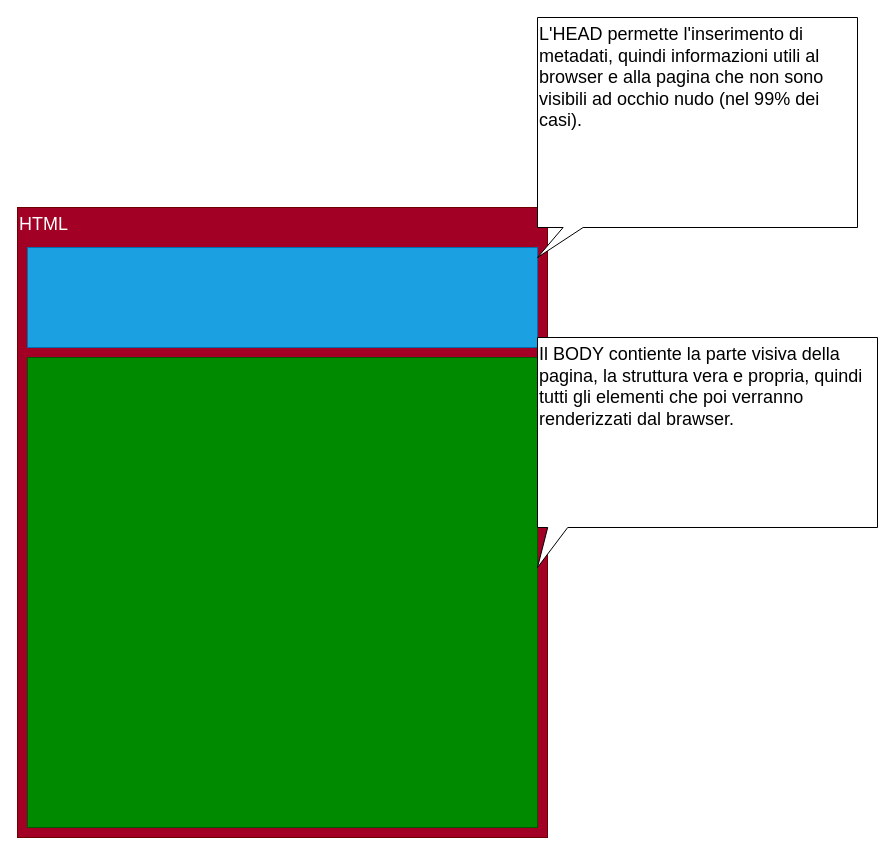
This 895x855 diagram has some shape labels left out. The centre of each missing label's shape, as x and y in pixels:
BODY: [282,592]
HEAD: [282,297]
